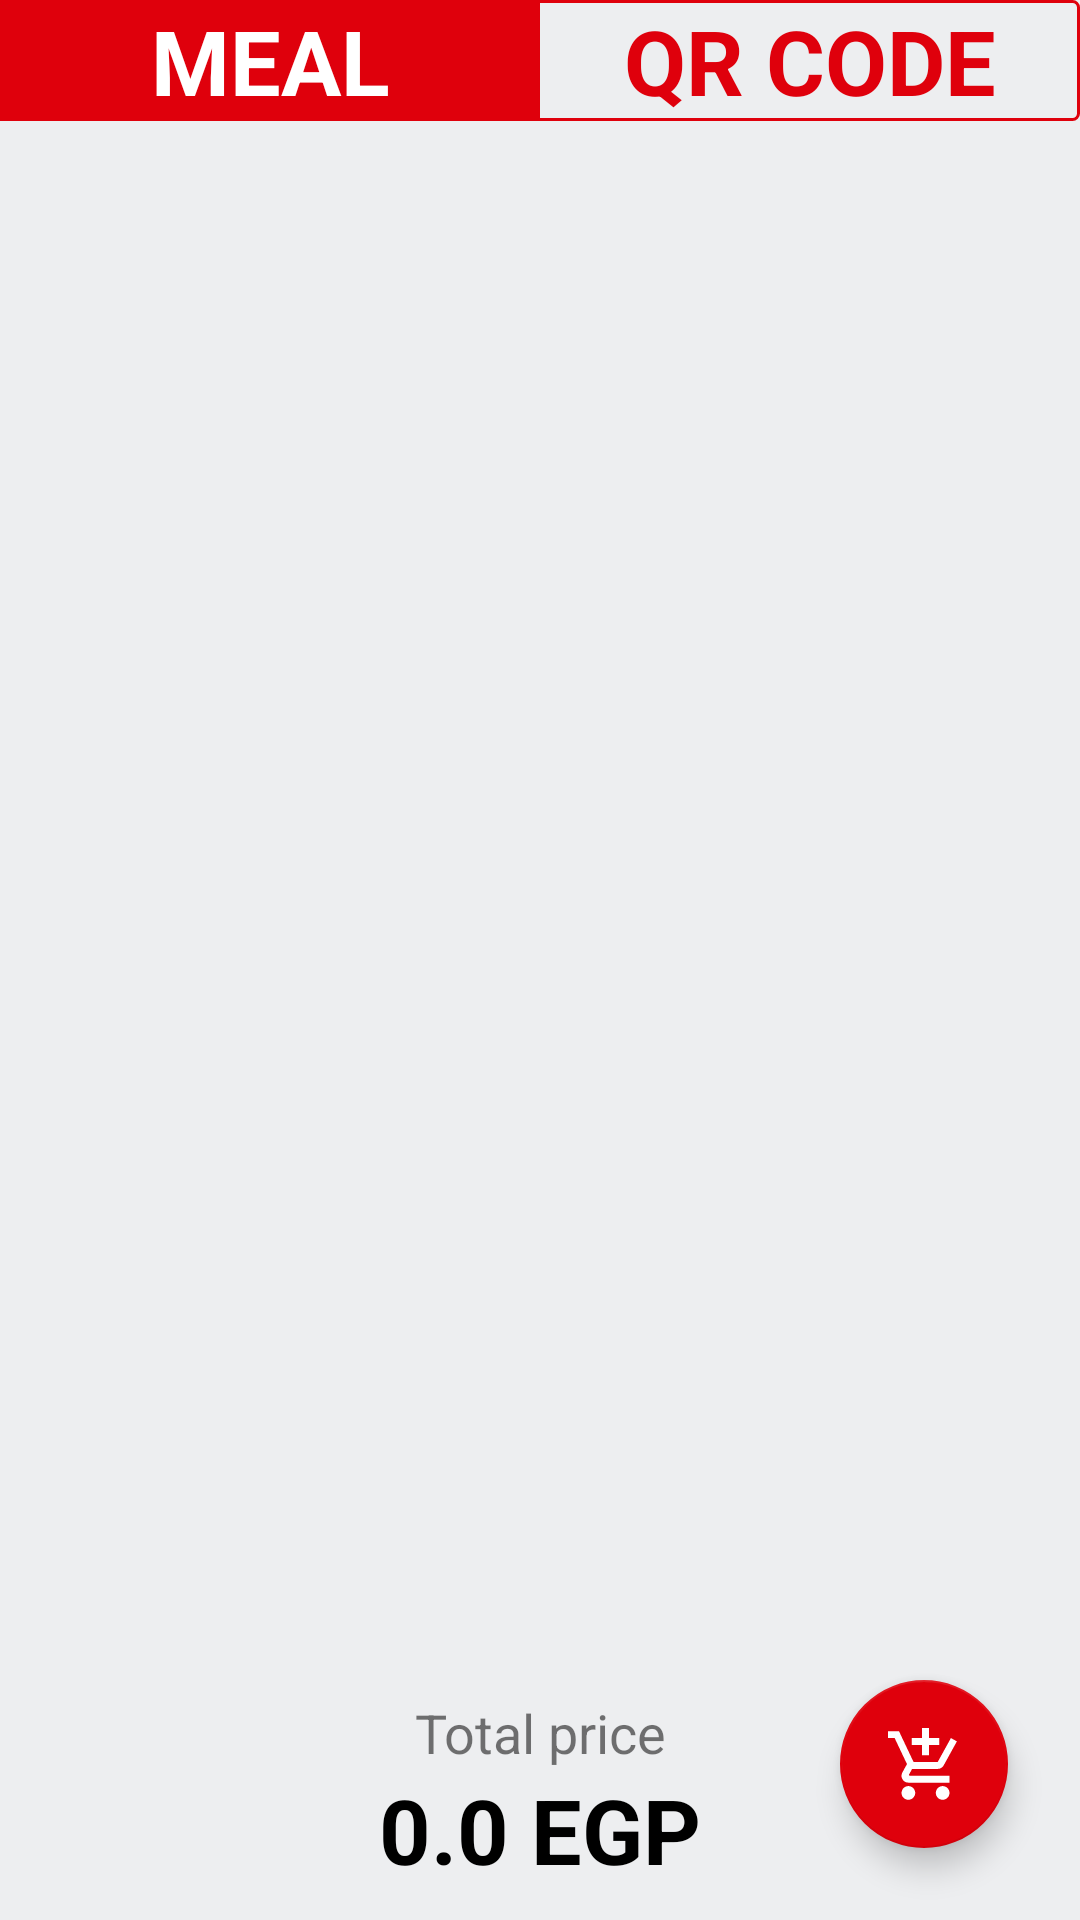

Icons on this 1080w x 1920h Android screen, each with the point to tap as point (x, y):
add meal: point (924, 1764)
